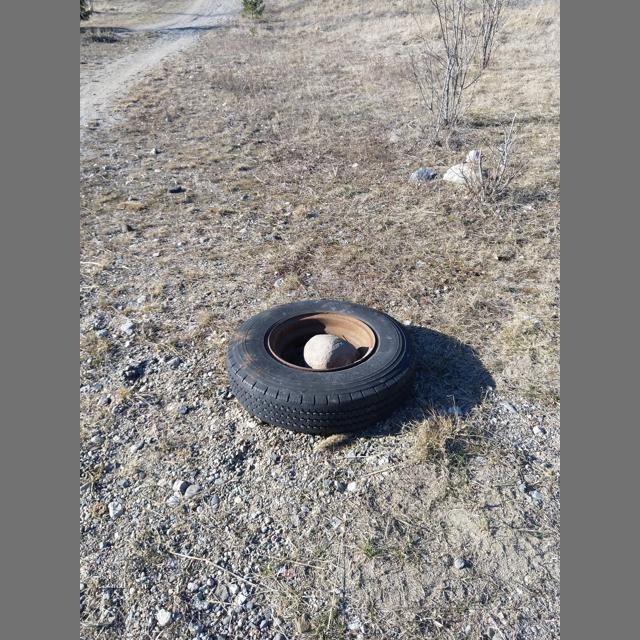litter: (226, 300, 417, 434)
